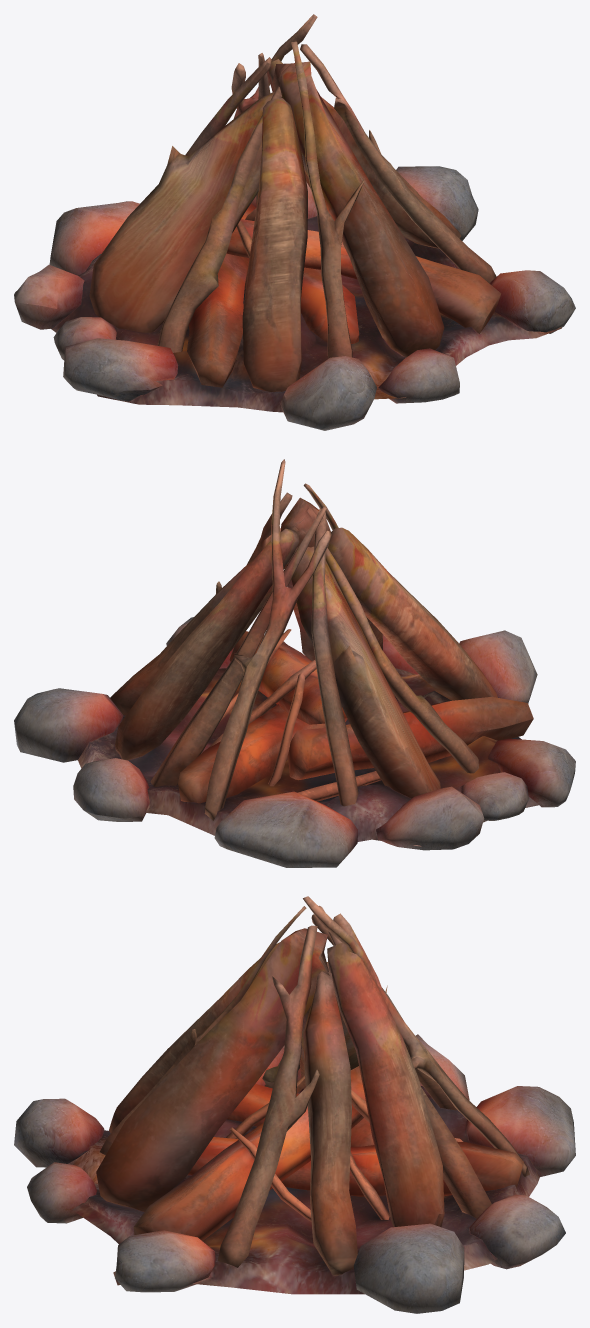
The model's file is Campfire.obj.
The picture shows the model from 3 angles, top to bottom: view 1: azimuth 30°, elevation 25°; view 2: azimuth 150°, elevation 25°; view 3: azimuth 270°, elevation 25°; orthographic projection. The views are drawn at different scales.
Parts seen in each view (by area): view 1: Campfire_Mesh; view 2: Campfire_Mesh; view 3: Campfire_Mesh.
Boxes of the visible parts, x1=… form: Campfire_Mesh: x1=14, y1=14, x2=575, y2=430; Campfire_Mesh: x1=14, y1=459, x2=575, y2=867; Campfire_Mesh: x1=14, y1=896, x2=575, y2=1313.
Bounding box in the file's own units: 3.92 × 2.4 × 3.76.
1 material, 1 textured.
